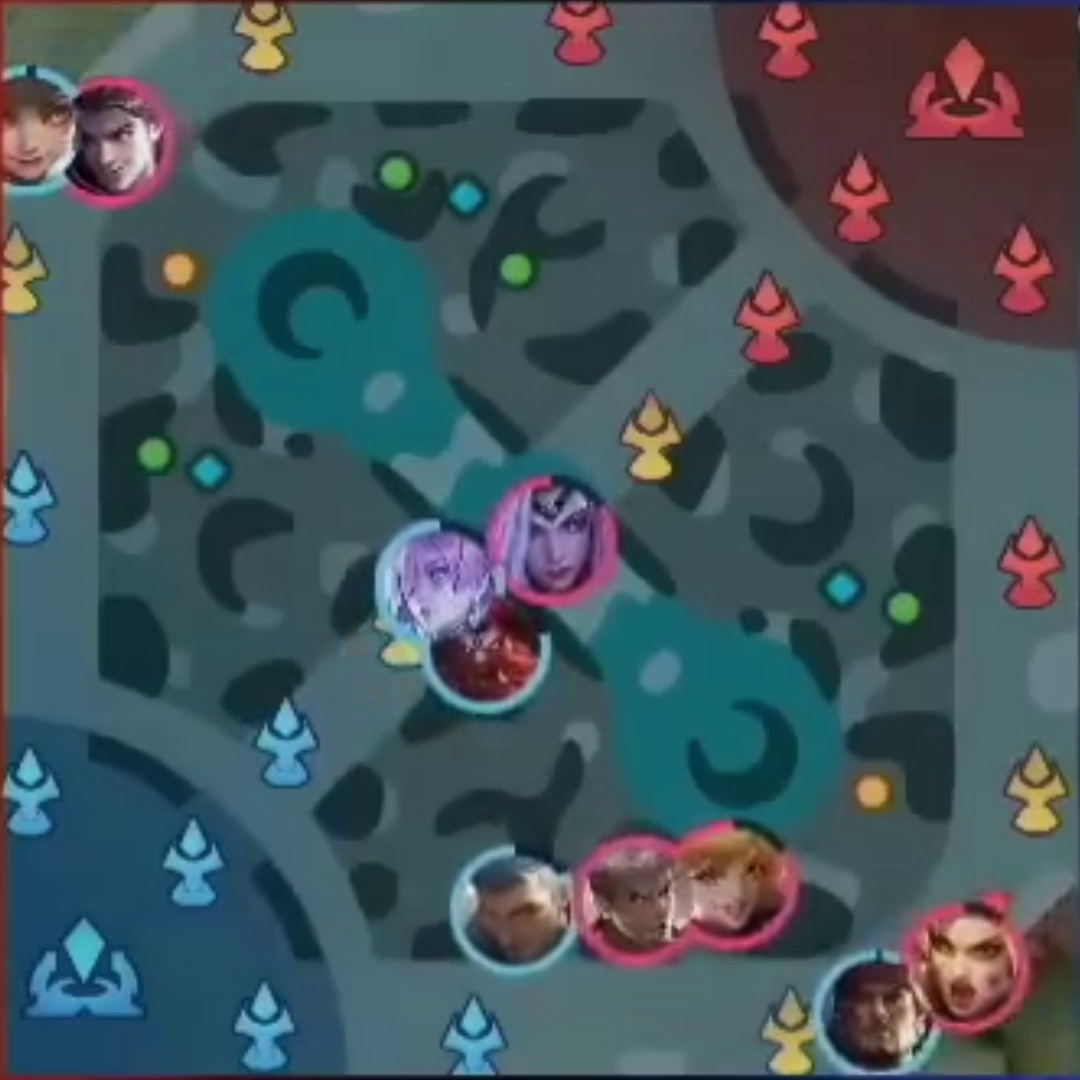Chou: (590, 843, 690, 950)
Claude: (79, 81, 171, 207)
Fanny: (697, 829, 792, 936)
Fredrinn: (462, 853, 582, 967)
Lapu-Lapu: (822, 963, 930, 1065)
Masha: (922, 909, 1014, 1014)
Minotaur: (439, 623, 544, 703)
Novaria: (382, 528, 491, 634)
Valentina: (504, 479, 620, 603)
Wanwan: (2, 66, 79, 186)
